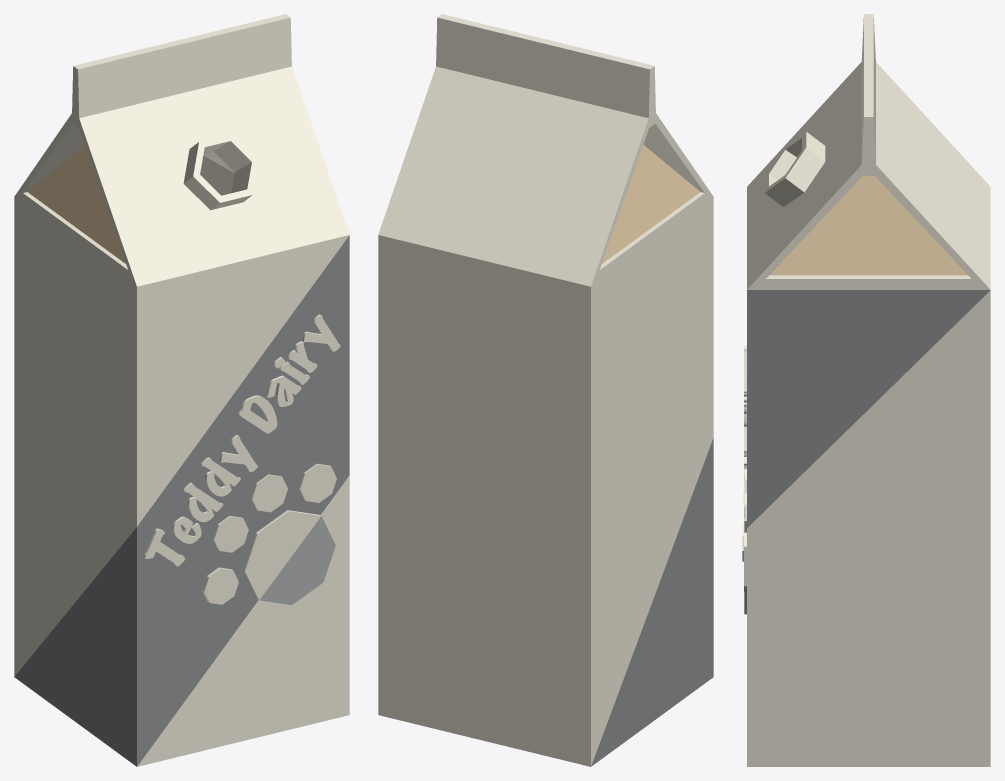
The model's file is Milkcarton.fbx.
3 views of the same model, side by side, from view 1: azimuth 30°, elevation 25°; view 2: azimuth 150°, elevation 25°; view 3: azimuth 270°, elevation 25° (orthographic).
Visible parts, largest first — view 1: typeMesh2; view 2: typeMesh2; view 3: typeMesh2.
Part boxes in pixels (x1=…): typeMesh2: x1=14, y1=14, x2=349, y2=766; typeMesh2: x1=378, y1=14, x2=713, y2=766; typeMesh2: x1=742, y1=14, x2=990, y2=766.
Bounding box in the file's own units: 2.7 × 7.93 × 2.75.
Materials: 1 (1 with a texture image).
